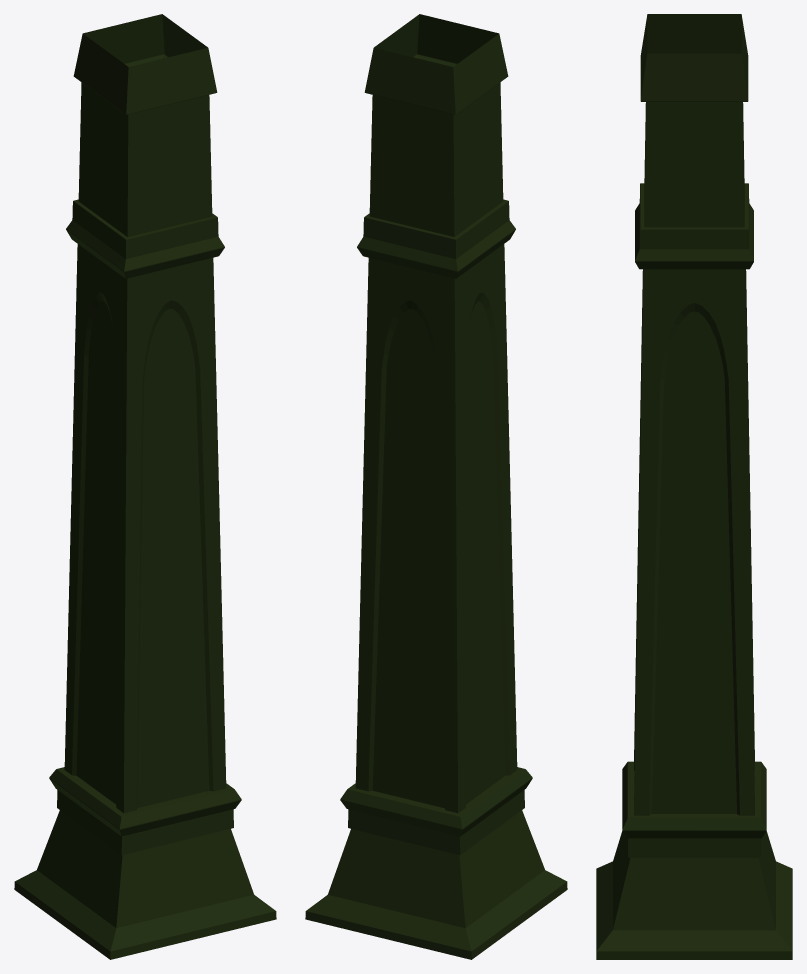
File: MSG_Lr_pillar.FBX
3 views of the same model, side by side, from view 1: azimuth 30°, elevation 25°; view 2: azimuth 150°, elevation 25°; view 3: azimuth 270°, elevation 25° (orthographic). The views are drawn at different scales.
Visible parts, largest first — view 1: Box081; view 2: Box081; view 3: Box081.
Boxes of the visible parts, box(x1,y1,x2,y2) form: Box081: box(14, 14, 276, 959); Box081: box(305, 14, 567, 959); Box081: box(596, 14, 792, 959).
Size of the model in its own units: 101 by 500 by 101.
